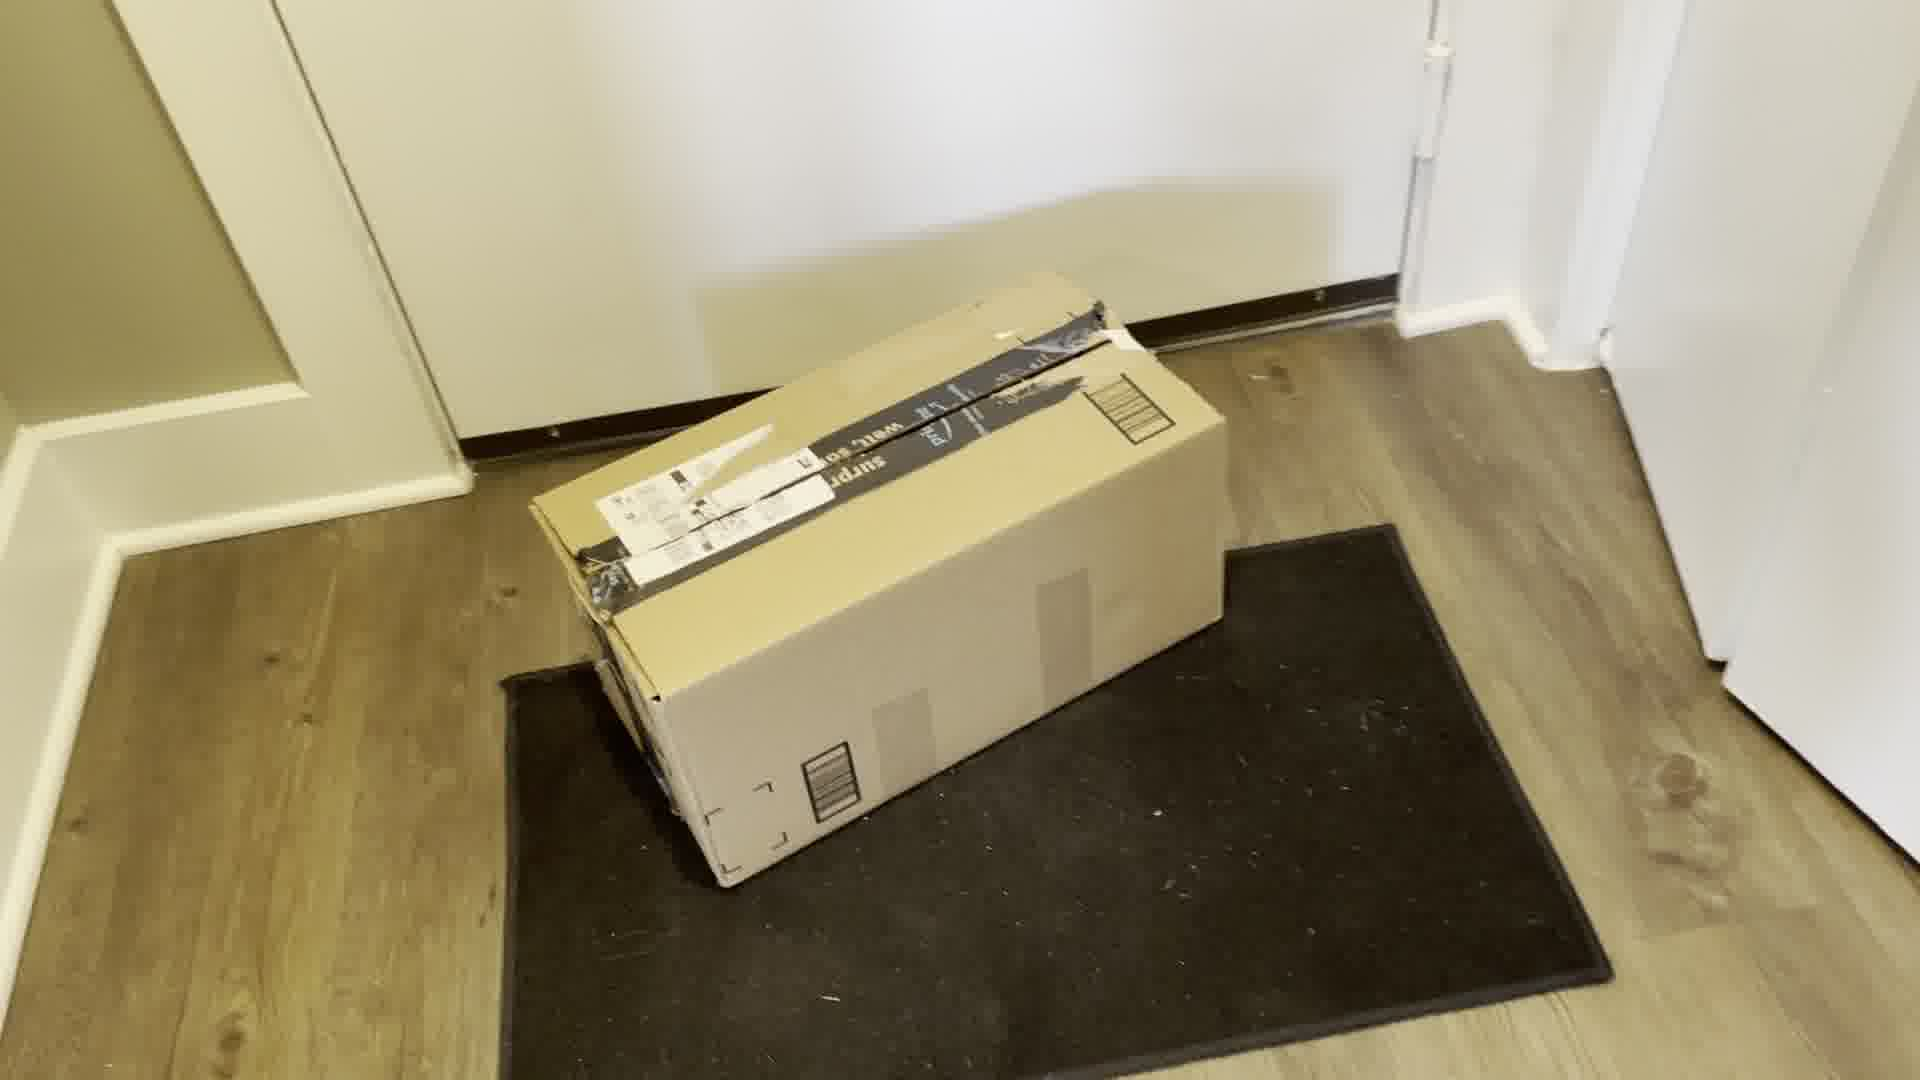box: (477, 278, 1265, 889)
